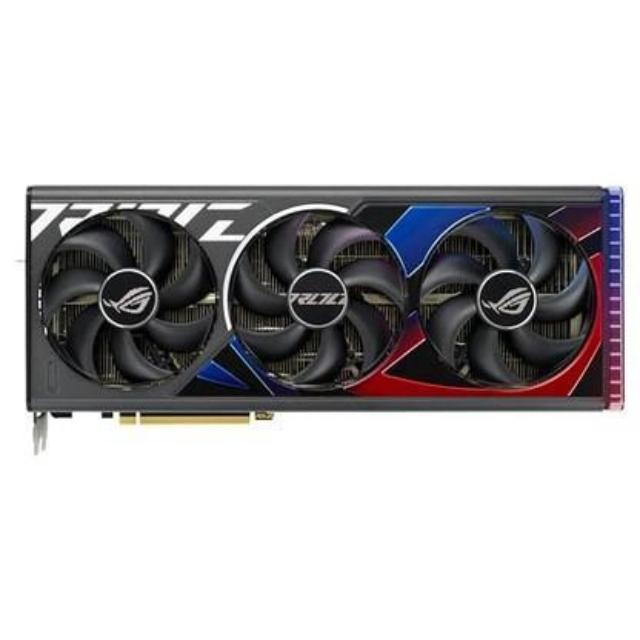GPU: (10, 170, 625, 436)
